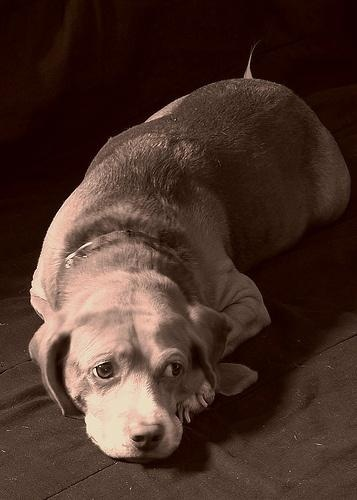dog: (16, 38, 355, 472)
